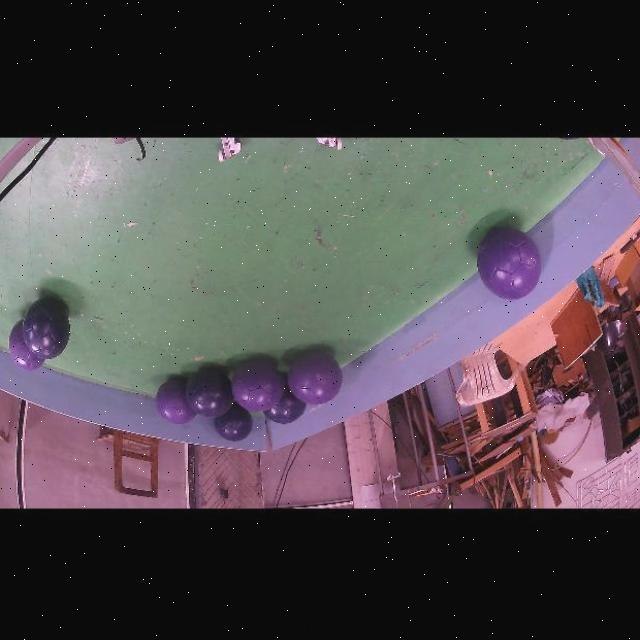B: (22, 298, 71, 359), (186, 368, 233, 417), (263, 376, 307, 423), (214, 403, 253, 441)
P: (477, 227, 540, 299), (287, 351, 343, 404), (232, 360, 285, 412), (156, 378, 197, 425), (9, 319, 44, 370)
